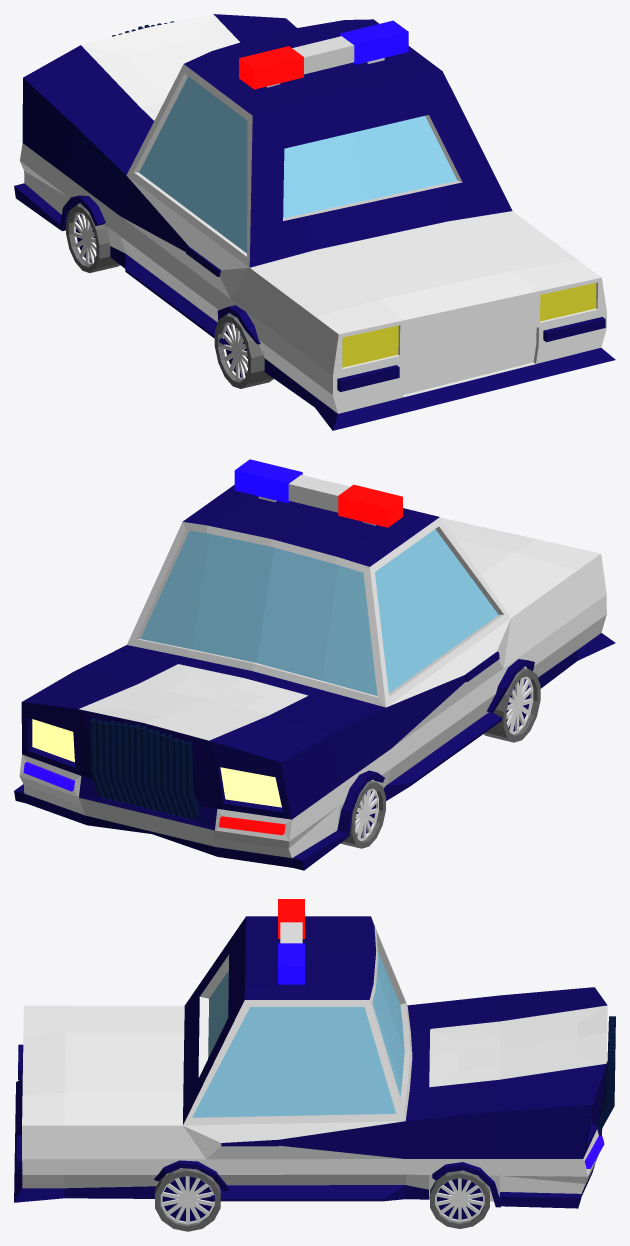
Rendered from Police_car_Clean.fbx.
The picture shows the model from 3 angles, top to bottom: view 1: azimuth 30°, elevation 25°; view 2: azimuth 150°, elevation 25°; view 3: azimuth 270°, elevation 25°; orthographic projection. The views are drawn at different scales.
Visible parts, largest first — view 1: headlight.002; view 2: headlight.002; view 3: headlight.002.
Boxes of the visible parts, x1,y1,x2,y2 form: headlight.002: (14,14,615,430); headlight.002: (14,459,615,870); headlight.002: (14,899,615,1231).
Bounding box in the file's own units: 139 × 121 × 277.
